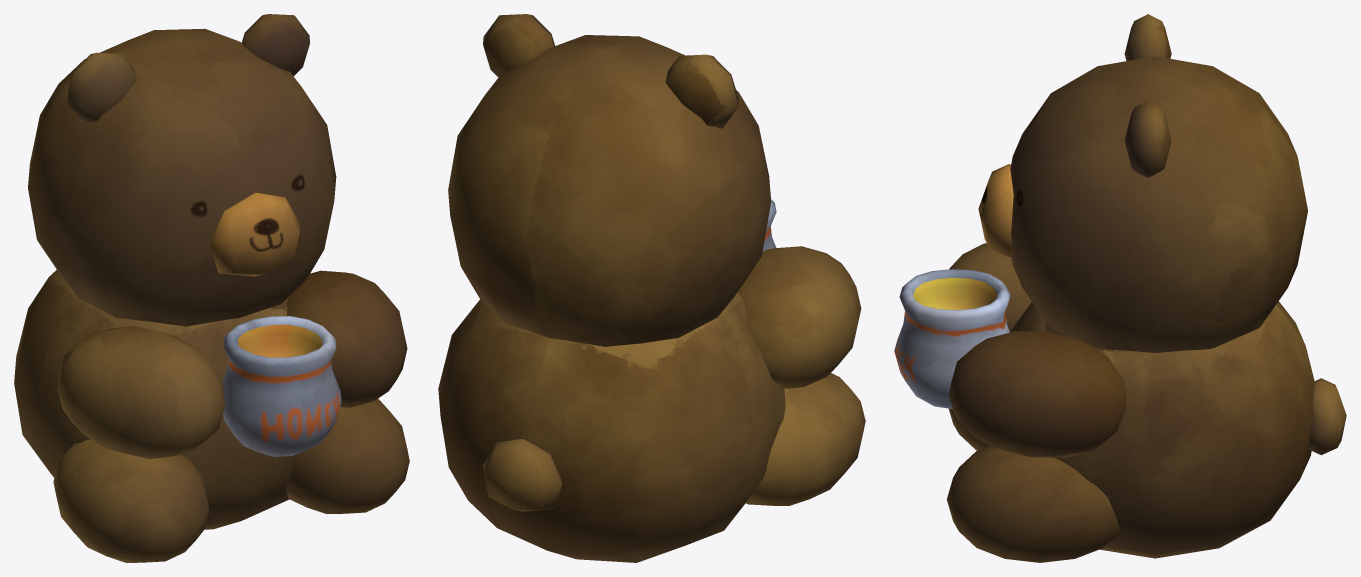
Rendered from Oso Bebé Testing.fbx.
3 renders of one model, left to right at view 1: azimuth 30°, elevation 25°; view 2: azimuth 150°, elevation 25°; view 3: azimuth 270°, elevation 25°, orthographic. The views are drawn at different scales.
Visible parts, largest first — view 1: Cube.001, Cube.002, Cube.003; view 2: Cube.001, Cube.004; view 3: Cube.001, Cube.002, Cube.003, Cube.004.
Boxes of the visible parts, bbox=[...] form: Cube.001: bbox=[14, 14, 409, 562]; Cube.002: bbox=[222, 316, 341, 456]; Cube.003: bbox=[209, 192, 300, 276]; Cube.001: bbox=[438, 14, 865, 562]; Cube.004: bbox=[483, 439, 562, 511]; Cube.001: bbox=[947, 14, 1315, 562]; Cube.002: bbox=[894, 269, 1010, 409]; Cube.003: bbox=[978, 164, 1014, 256]; Cube.004: bbox=[1308, 378, 1346, 455].
Bounding box in the file's own units: 208 × 293 × 248.
4 materials, 4 textured.
